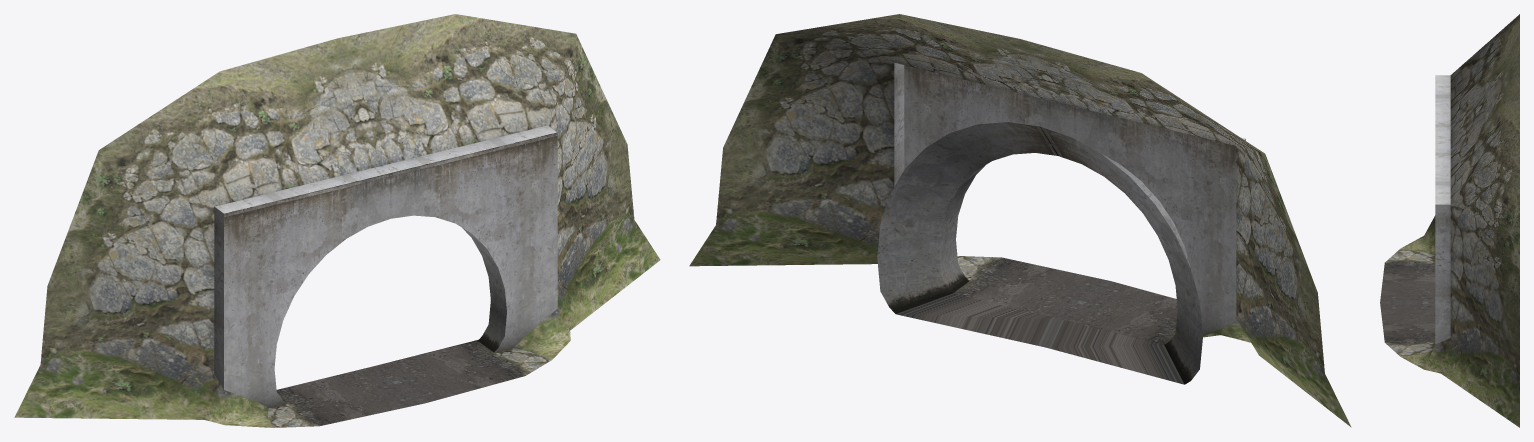
The model's file is Entrance.dae.
3 views of the same model, side by side, from view 1: azimuth 30°, elevation 25°; view 2: azimuth 150°, elevation 25°; view 3: azimuth 270°, elevation 25° (orthographic). The views are drawn at different scales.
Parts seen in each view (by area): view 1: Entrance; view 2: Entrance; view 3: Entrance.
Boxes of the visible parts, box(x1,y1,x2,y2) form: Entrance: box(14, 14, 660, 427); Entrance: box(689, 14, 1351, 427); Entrance: box(1380, 14, 1519, 427).
Size of the model in its own units: 1339 by 316 by 631.
1 material, 1 textured.
